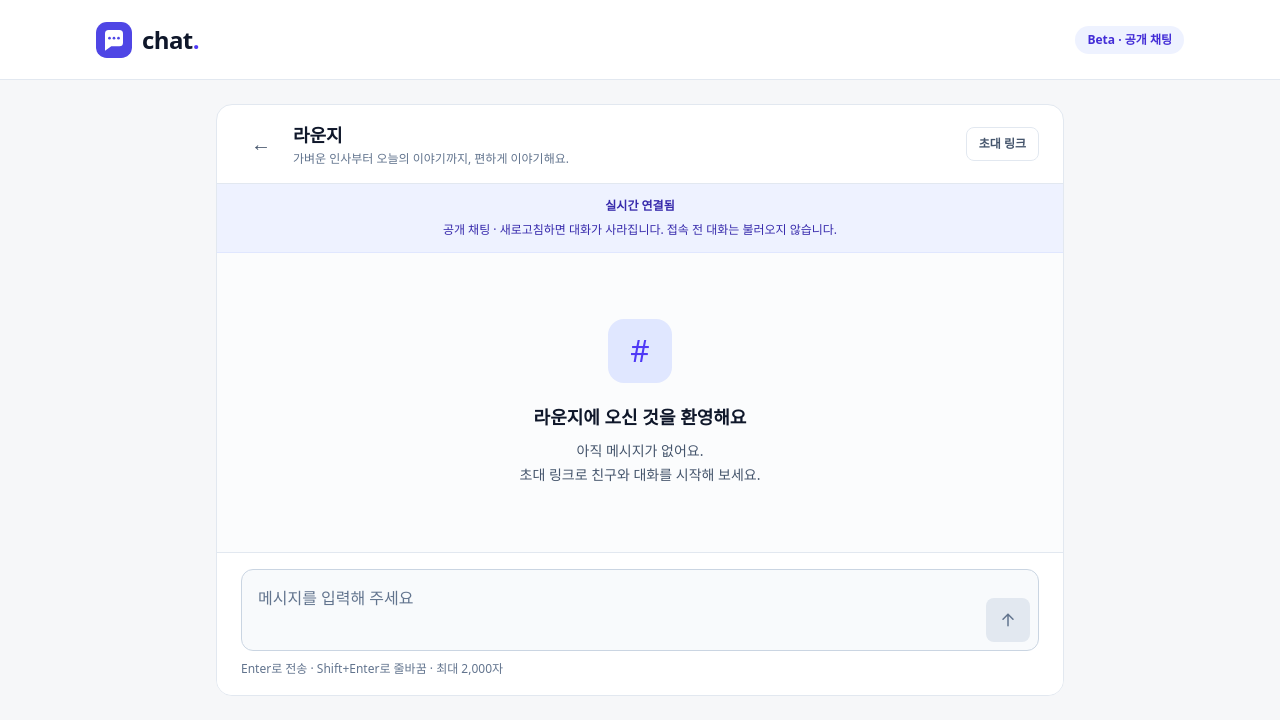
Test case: 채팅 페이지 › 한글 조합 중 Enter와 IME의 keyCode 229를 전송으로 처리하지 않는다
Type "안녕" into the text box labelled "메시지".
click(612, 610); type("안녕")  # box [250,578,974,642]
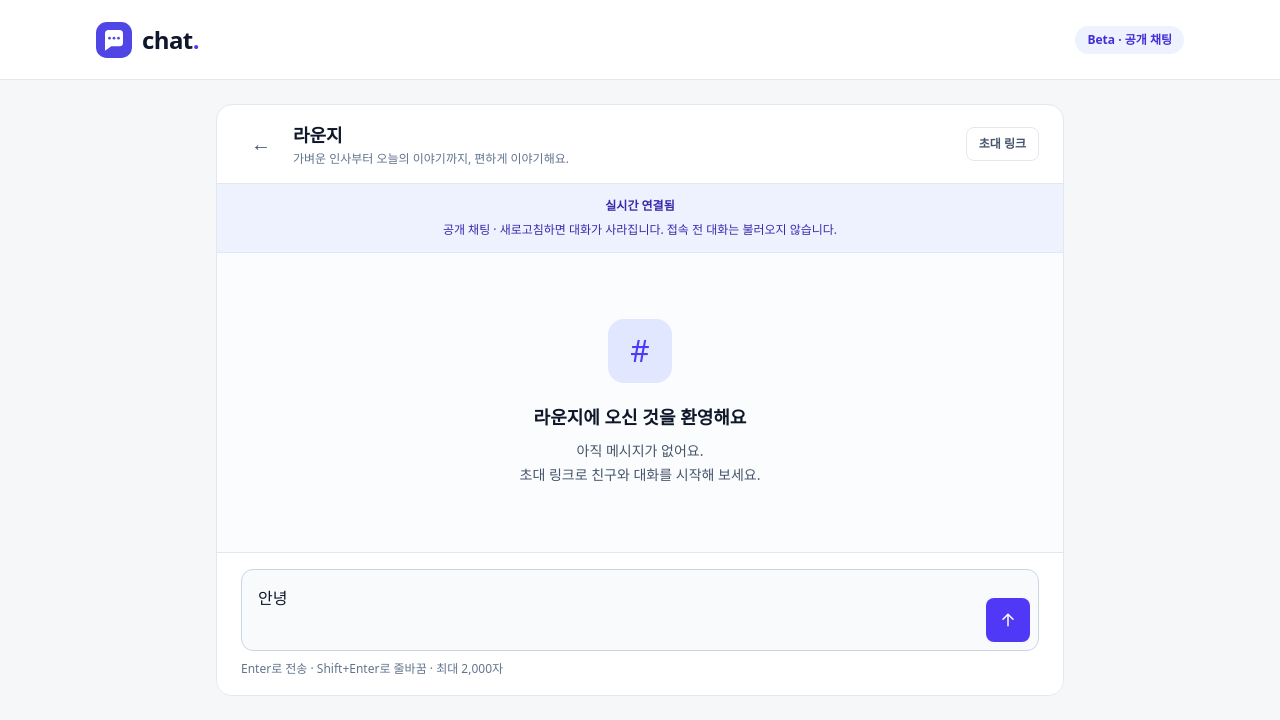
Press Enter in the text box named "메시지", box [250,578,974,642]
Press Enter in the text box named "메시지", box [250,578,974,642]
Press Enter in the text box named "메시지", box [250,578,974,642]
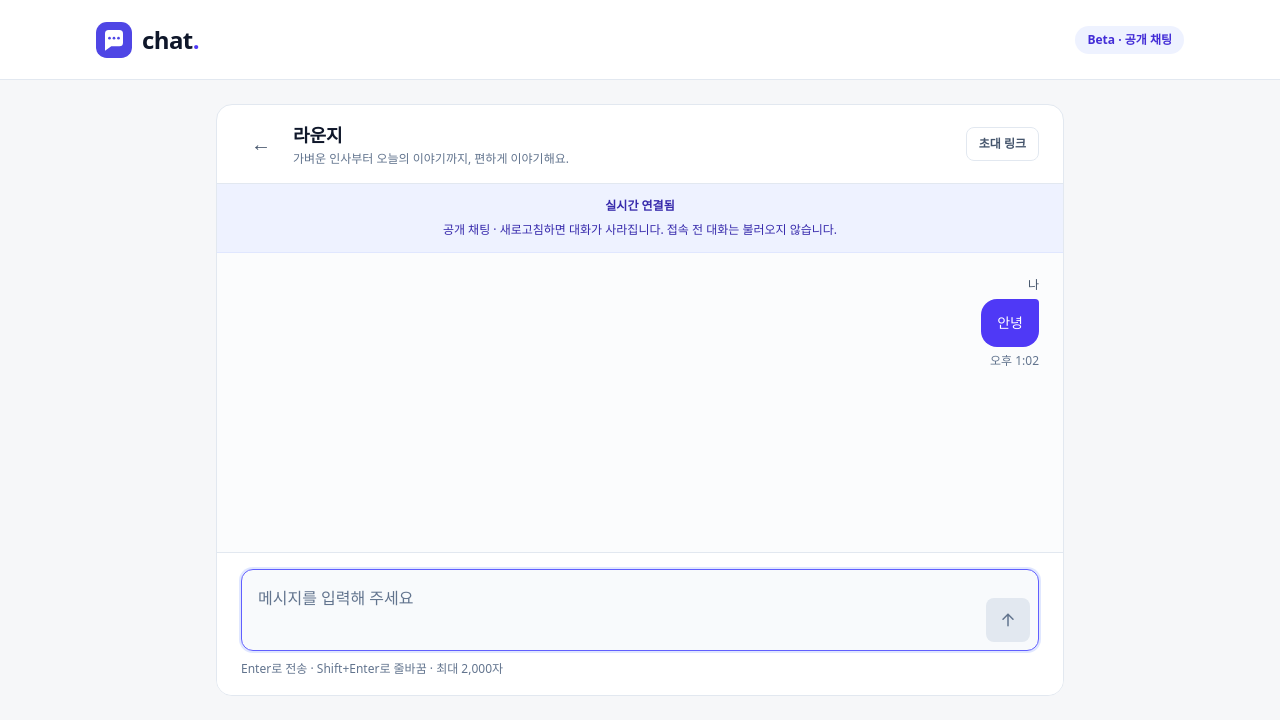
Check: the text "안녕" is shown, box [981,299,1039,347]
